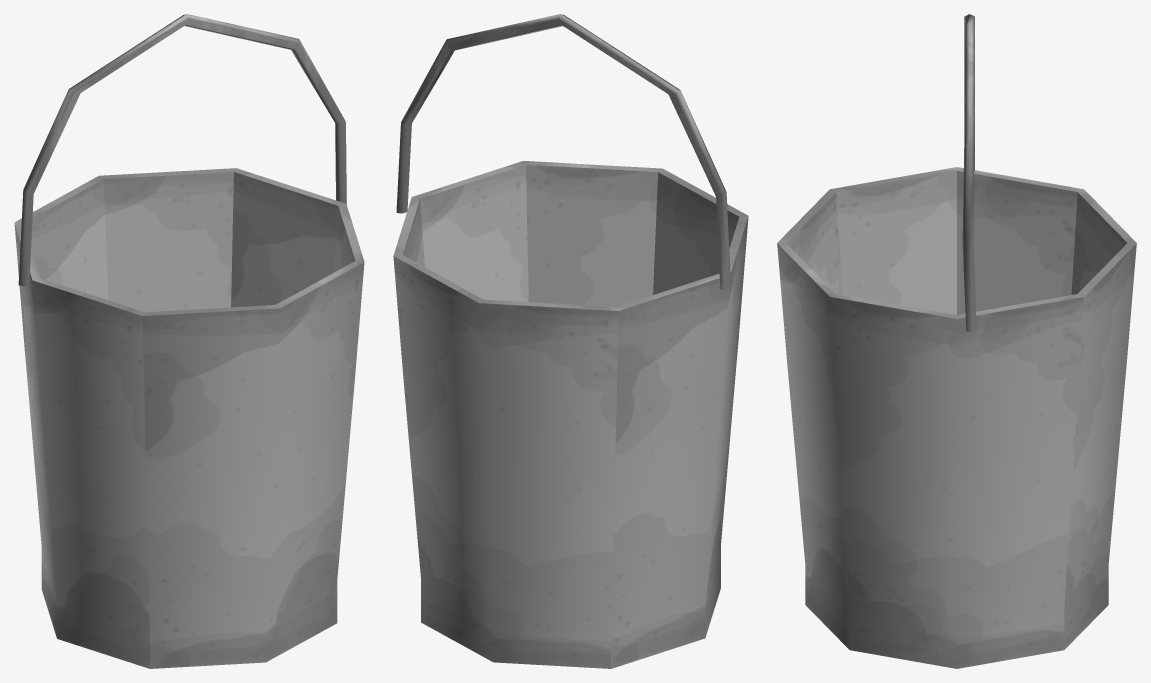
File: bucket (2).FBX
The picture shows the model from 3 angles, left to right: view 1: azimuth 30°, elevation 25°; view 2: azimuth 150°, elevation 25°; view 3: azimuth 270°, elevation 25°; orthographic projection. The views are drawn at different scales.
Parts seen in each view (by area): view 1: bucket001, bucket002; view 2: bucket001, bucket002; view 3: bucket001, bucket002.
Part boxes in pixels (x1,y1,x2,y2): bucket001: (14,168,364,668); bucket002: (18,14,346,286); bucket001: (393,161,748,668); bucket002: (396,14,731,290); bucket001: (777,167,1136,668); bucket002: (962,14,976,332).
Size of the model in its own units: 14.24 by 13.59 by 24.28.
Materials: 2 (2 with a texture image).
